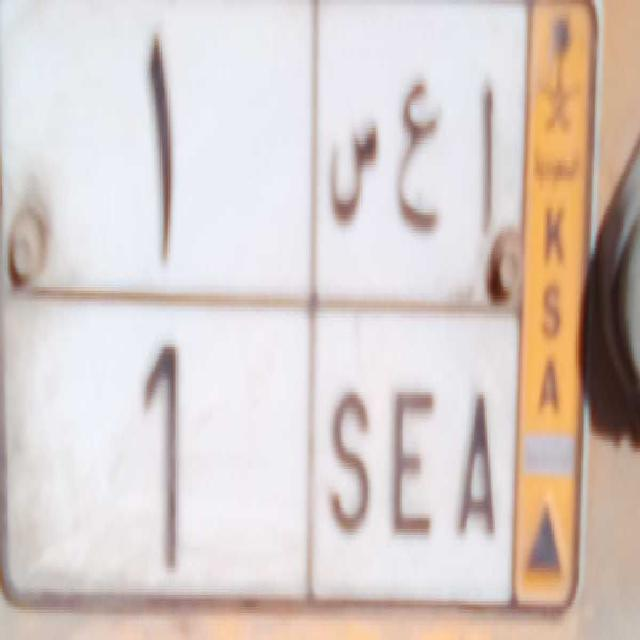license_plate: (2, 285, 514, 609)
